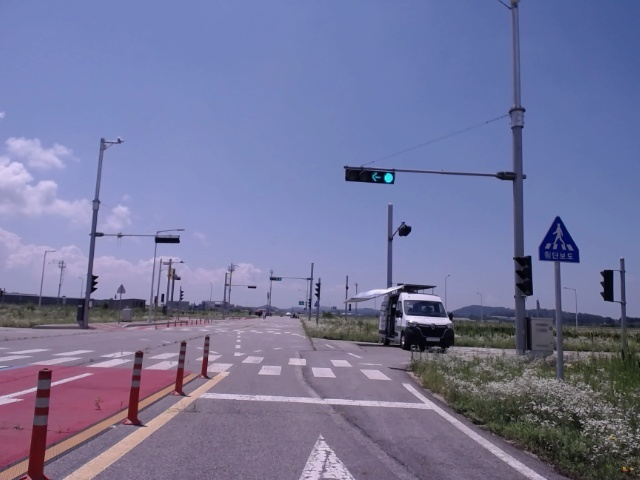all_green_4: (345, 166, 398, 184)
